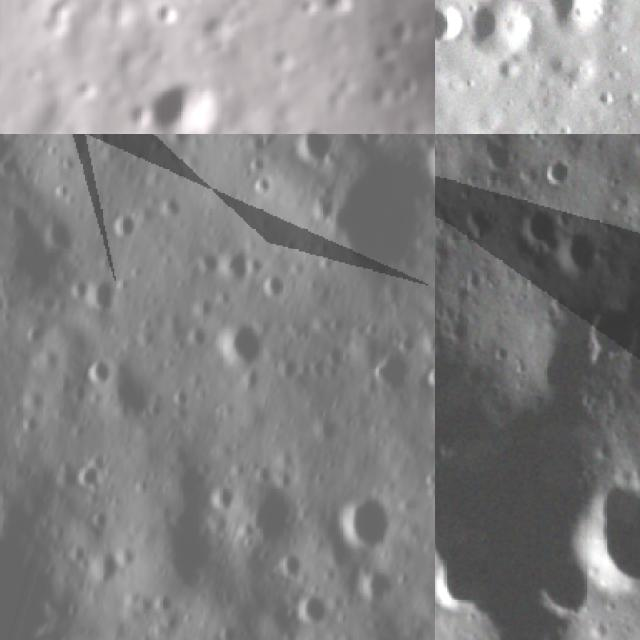crater: (579, 470, 640, 608), (455, 0, 551, 70), (141, 79, 233, 134), (327, 493, 398, 559), (528, 0, 628, 43), (400, 0, 435, 120), (214, 318, 278, 382), (584, 288, 639, 359), (79, 343, 125, 400), (279, 589, 336, 634), (560, 230, 606, 281), (435, 0, 478, 54), (518, 204, 560, 252), (102, 203, 144, 249), (351, 562, 393, 608), (84, 272, 124, 318), (289, 134, 336, 173), (269, 547, 312, 584), (67, 454, 108, 492), (544, 153, 582, 192), (256, 270, 296, 305), (207, 482, 242, 518), (149, 0, 182, 32), (49, 177, 80, 206), (415, 352, 435, 395), (70, 77, 104, 101), (85, 507, 114, 535), (251, 172, 278, 200), (320, 0, 356, 19), (0, 284, 17, 324), (360, 134, 389, 153), (296, 120, 333, 134), (43, 140, 66, 162)
